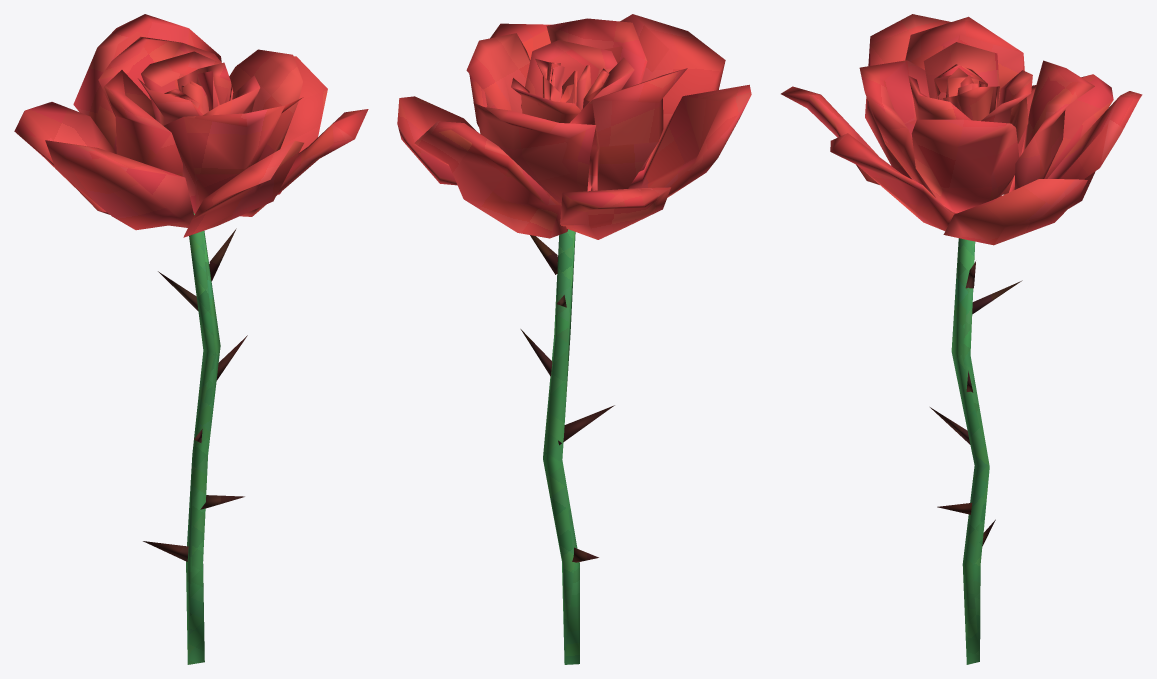
Rendered from red_rose.fbx.
3 views of the same model, side by side, from view 1: azimuth 30°, elevation 25°; view 2: azimuth 150°, elevation 25°; view 3: azimuth 270°, elevation 25° (orthographic).
Parts seen in each view (by area): view 1: red_rose; view 2: red_rose; view 3: red_rose.
Part boxes in pixels (x1,y1,x2,y2): red_rose: [14, 14, 368, 664]; red_rose: [397, 14, 751, 664]; red_rose: [781, 14, 1142, 664].
Bounding box in the file's own units: 20.88 × 40.39 × 22.12.
